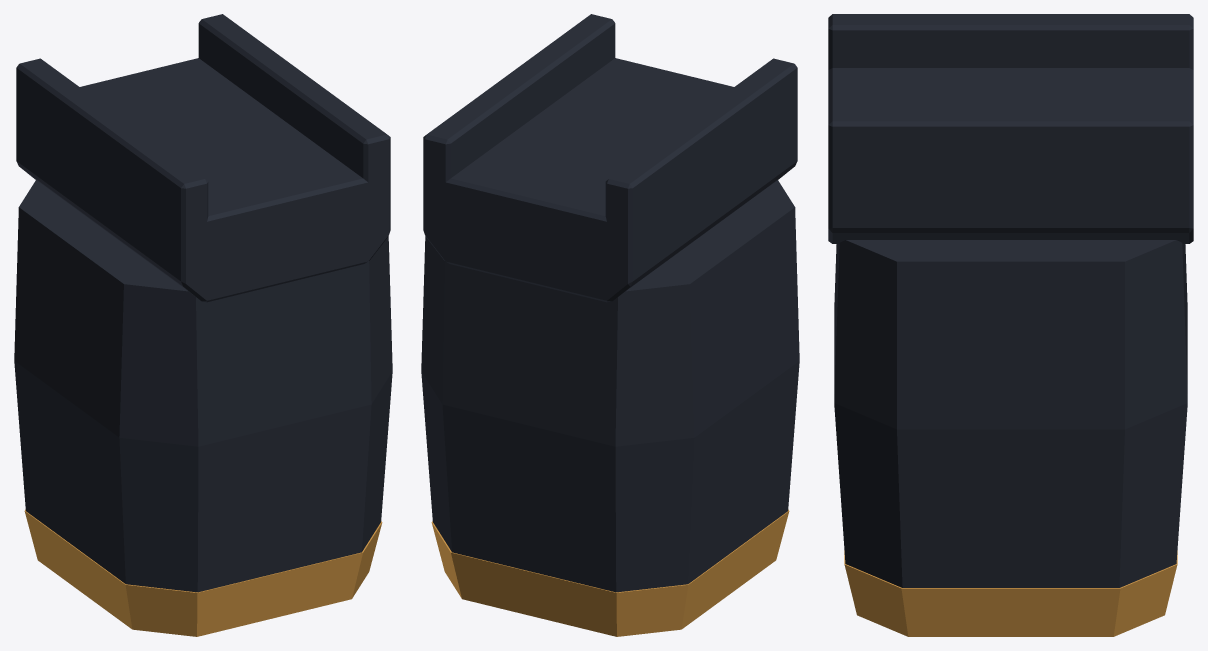
The model's file is stubby.glb.
3 views of the same model, side by side, from view 1: azimuth 30°, elevation 25°; view 2: azimuth 150°, elevation 25°; view 3: azimuth 270°, elevation 25° (orthographic). The views are drawn at different scales.
Visible parts, largest first — view 1: stubby_grip, stubby_clamp, stubby_cap; view 2: stubby_grip, stubby_clamp, stubby_cap; view 3: stubby_grip, stubby_clamp, stubby_cap.
Part boxes in pixels (bbox=[...]): stubby_grip: bbox=[14, 180, 392, 592]; stubby_clamp: bbox=[16, 14, 390, 302]; stubby_cap: bbox=[24, 509, 382, 636]; stubby_grip: bbox=[421, 180, 799, 592]; stubby_clamp: bbox=[423, 14, 797, 302]; stubby_cap: bbox=[431, 509, 789, 636]; stubby_grip: bbox=[834, 240, 1187, 587]; stubby_clamp: bbox=[828, 14, 1193, 243]; stubby_cap: bbox=[844, 550, 1177, 636].
Bounding box in the file's own units: 0.03 × 0.049 × 0.032.
